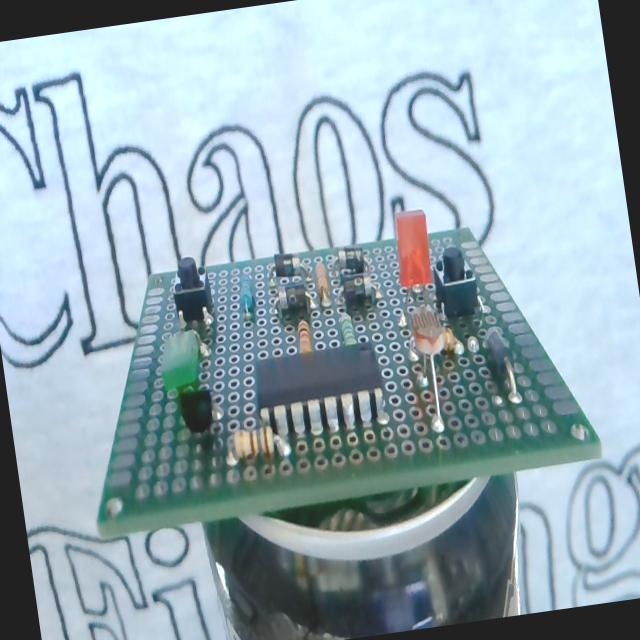IC: (250, 338, 386, 438)
cds: (407, 303, 458, 431)
diode: (480, 317, 530, 408), (342, 273, 376, 309), (276, 282, 310, 314), (336, 244, 367, 275), (274, 250, 300, 278)
led: (390, 210, 440, 316), (156, 328, 206, 394)
resistor: (227, 421, 284, 465), (314, 261, 332, 304), (238, 279, 256, 321), (295, 318, 313, 354), (338, 312, 357, 346)
switch: (430, 244, 480, 320), (169, 255, 215, 324)
transistor: (178, 384, 216, 437)
